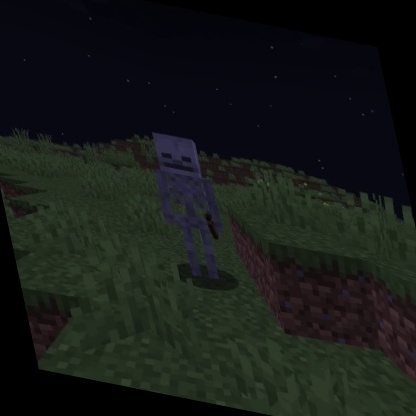skeleton: (140, 125, 238, 288)
